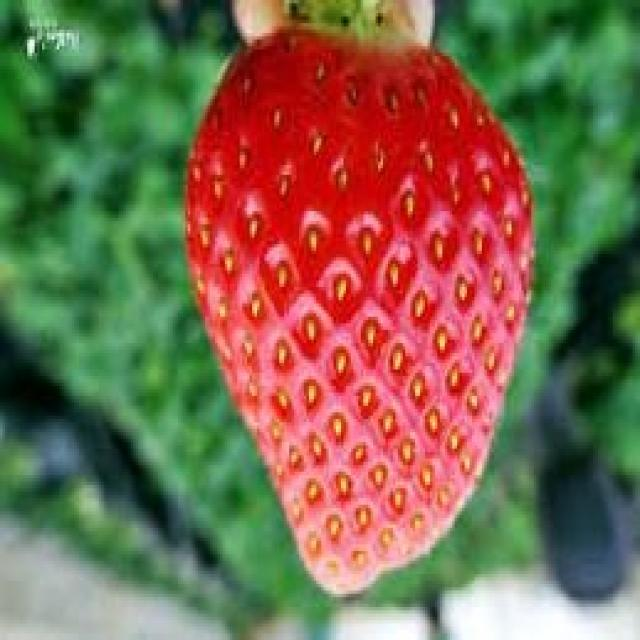mature: (181, 24, 533, 595)
